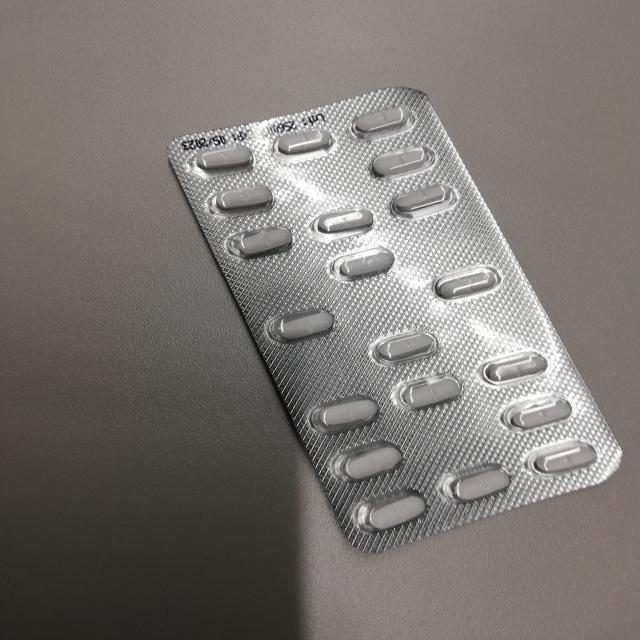Pill: (296, 393, 393, 436), (322, 442, 415, 486), (416, 262, 514, 302), (216, 221, 304, 262), (520, 440, 611, 479), (385, 368, 467, 411), (441, 467, 526, 508), (352, 490, 437, 531), (324, 239, 402, 283), (494, 393, 587, 429), (467, 349, 557, 386), (378, 184, 465, 222), (263, 307, 341, 344), (361, 328, 448, 361), (363, 143, 443, 178), (302, 205, 383, 239), (341, 103, 422, 136), (206, 179, 280, 213), (270, 127, 341, 161), (183, 144, 260, 174)
